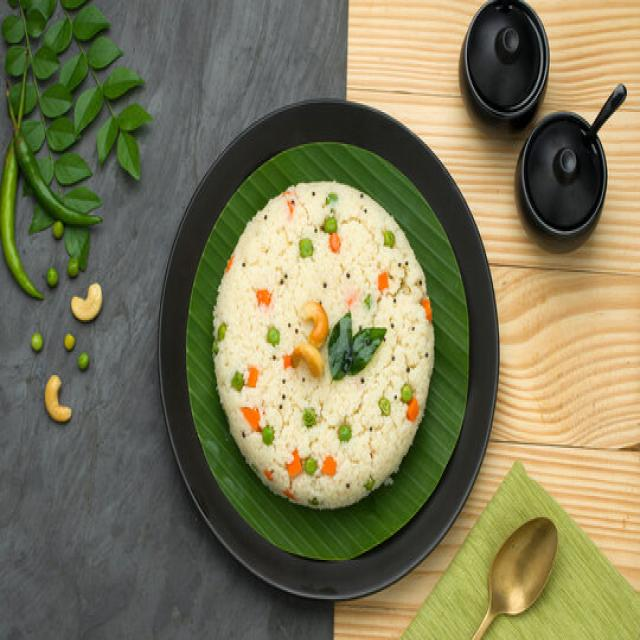UPMA: (215, 180, 434, 505)
